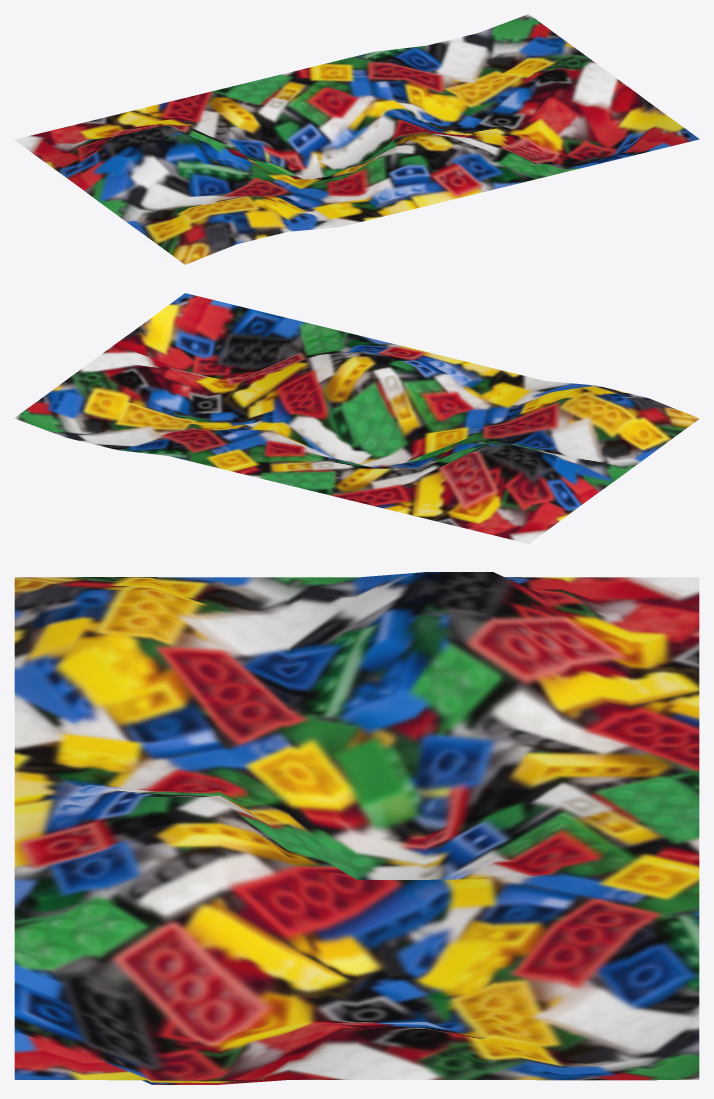
File: Chest_addon.fbx
The picture shows the model from 3 angles, top to bottom: view 1: azimuth 30°, elevation 25°; view 2: azimuth 150°, elevation 25°; view 3: azimuth 270°, elevation 25°; orthographic projection. The views are drawn at different scales.
Visible parts, largest first — view 1: Lego_Pieces_Boundarie; view 2: Lego_Pieces_Boundarie; view 3: Lego_Pieces_Boundarie.
Boxes of the visible parts, x1,y1,x2,y2 form: Lego_Pieces_Boundarie: (14, 14, 699, 264); Lego_Pieces_Boundarie: (14, 293, 699, 543); Lego_Pieces_Boundarie: (14, 572, 699, 1084).
Bounding box in the file's own units: 13.05 × 1.36 × 7.51.
Materials: 1 (1 with a texture image).
